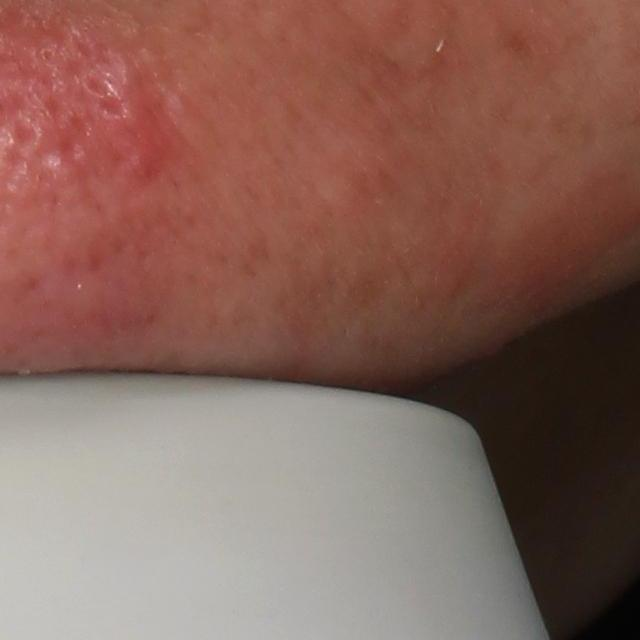papule: (102, 70, 180, 184)
